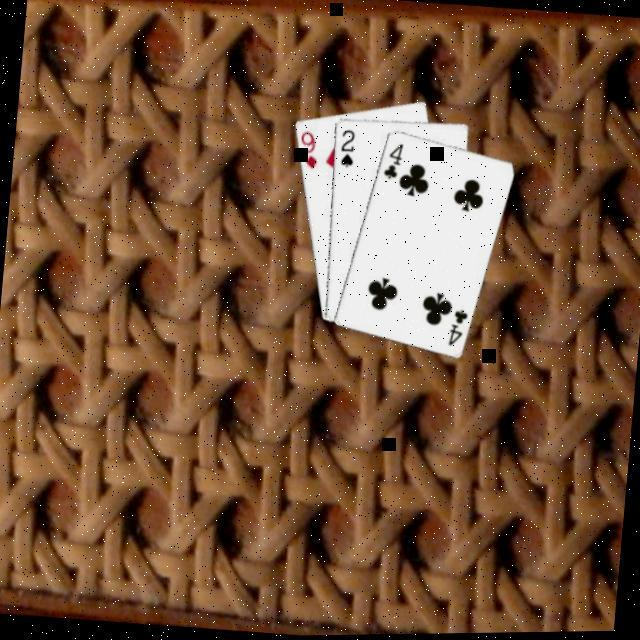2S: (335, 125, 358, 169)
4C: (443, 305, 470, 349), (379, 138, 404, 181)
9D: (293, 126, 321, 170)
